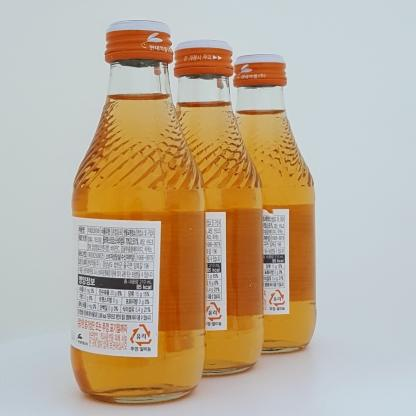--------210ML: (71, 19, 206, 405), (155, 39, 263, 378), (217, 55, 315, 355)
